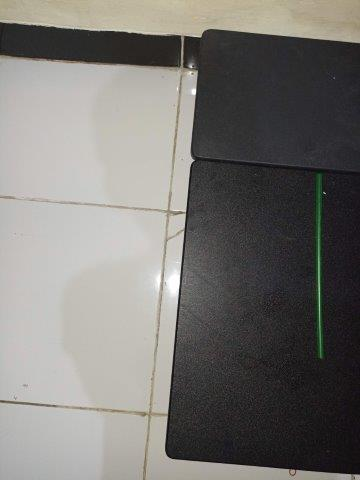sedotan: (315, 174, 324, 358)
